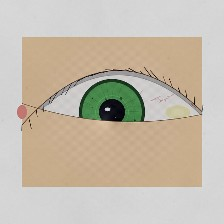pinguecula_lesion: (153, 93, 202, 132)
